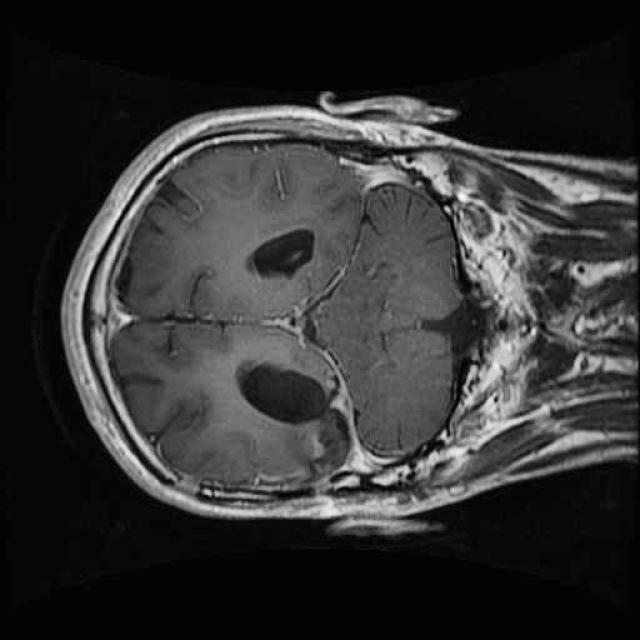Tumor: (284, 346, 364, 494)
